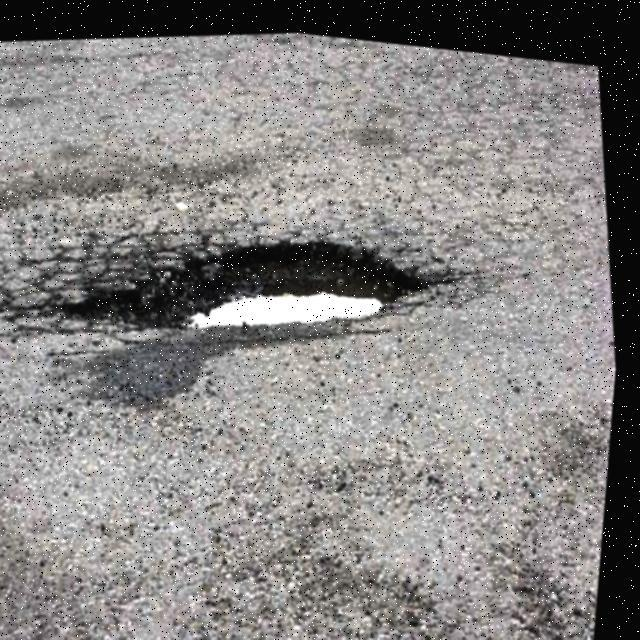pothole: (83, 177, 446, 378)
